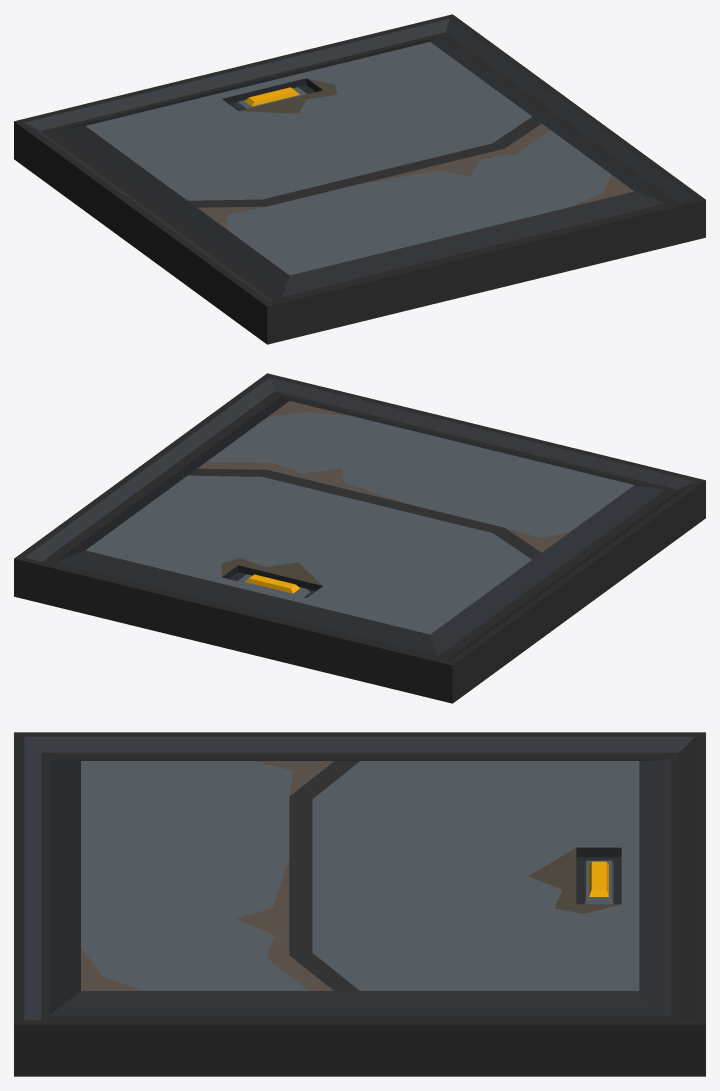
Rendered from SM_Bld_Floor_Small_08.fbx.
3 views of the same model, one above another, from view 1: azimuth 30°, elevation 25°; view 2: azimuth 150°, elevation 25°; view 3: azimuth 270°, elevation 25° (orthographic). The views are drawn at different scales.
Visible parts, largest first — view 1: SM_Bld_Floor_Small_08; view 2: SM_Bld_Floor_Small_08; view 3: SM_Bld_Floor_Small_08.
Part boxes in pixels (bbox=[...]): SM_Bld_Floor_Small_08: bbox=[14, 14, 705, 344]; SM_Bld_Floor_Small_08: bbox=[14, 373, 705, 703]; SM_Bld_Floor_Small_08: bbox=[14, 732, 705, 1076].
Bounding box in the file's own units: 250 × 21.82 × 250.
Materials: 1 (1 with a texture image).
